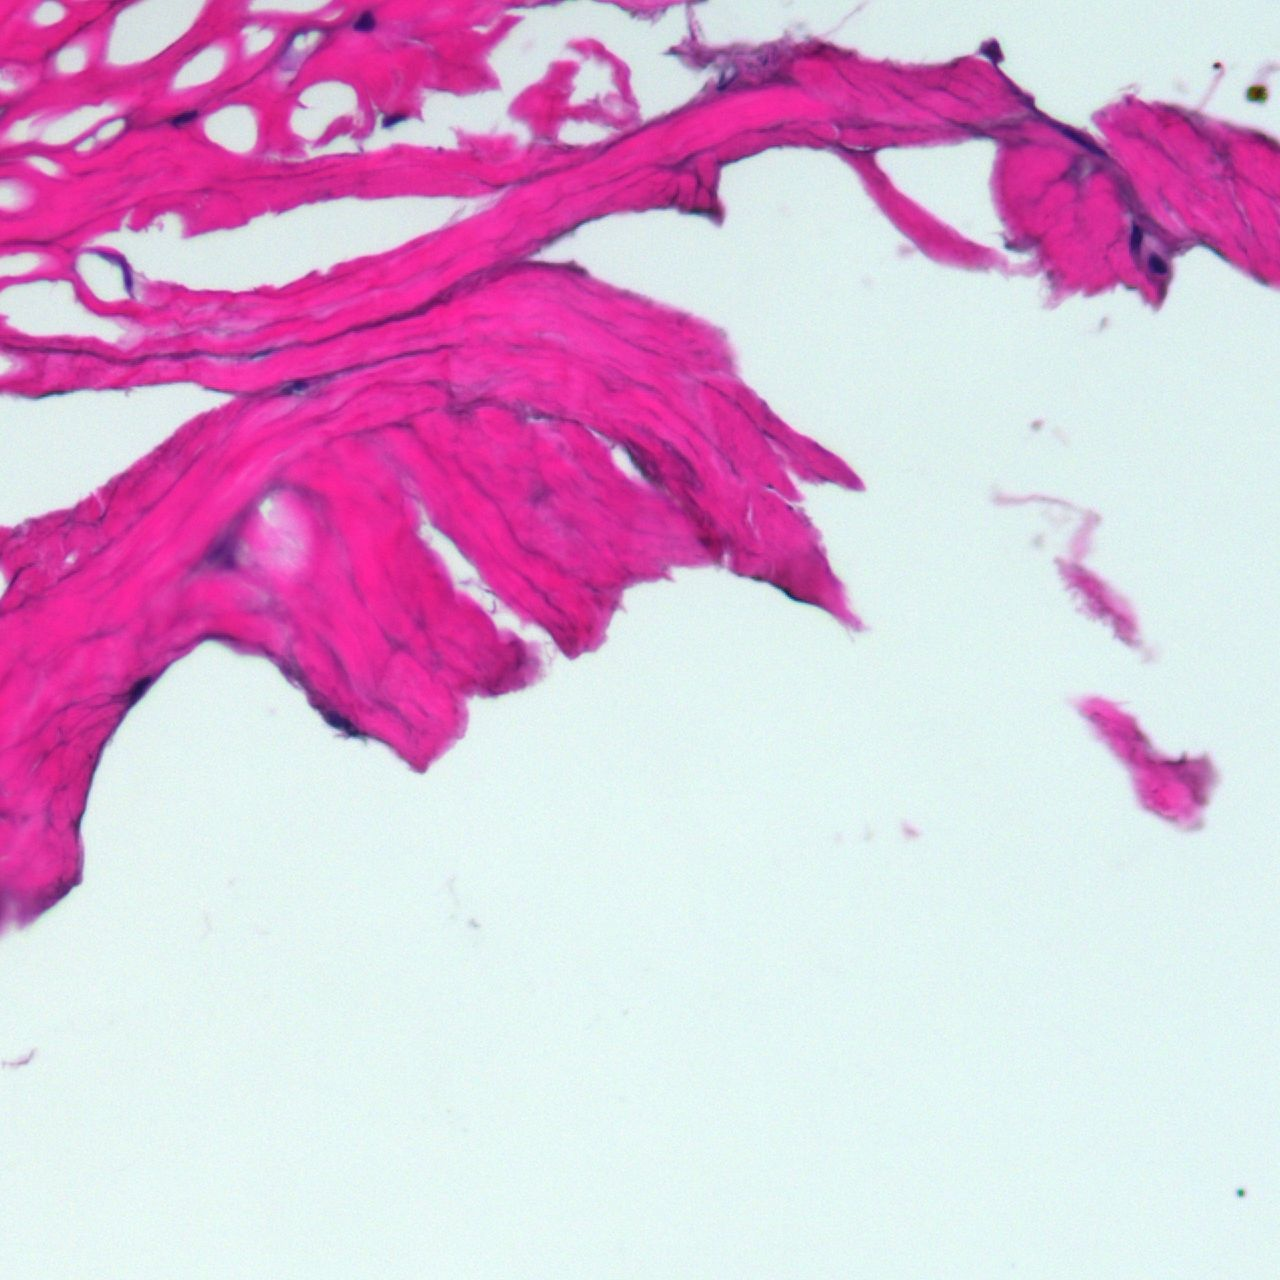nucleus-HE: (120, 667, 156, 706), (322, 707, 362, 741), (377, 108, 407, 130), (168, 107, 199, 127), (278, 377, 309, 395), (352, 11, 377, 32), (1128, 222, 1143, 253), (1148, 253, 1167, 274), (121, 263, 132, 293)
